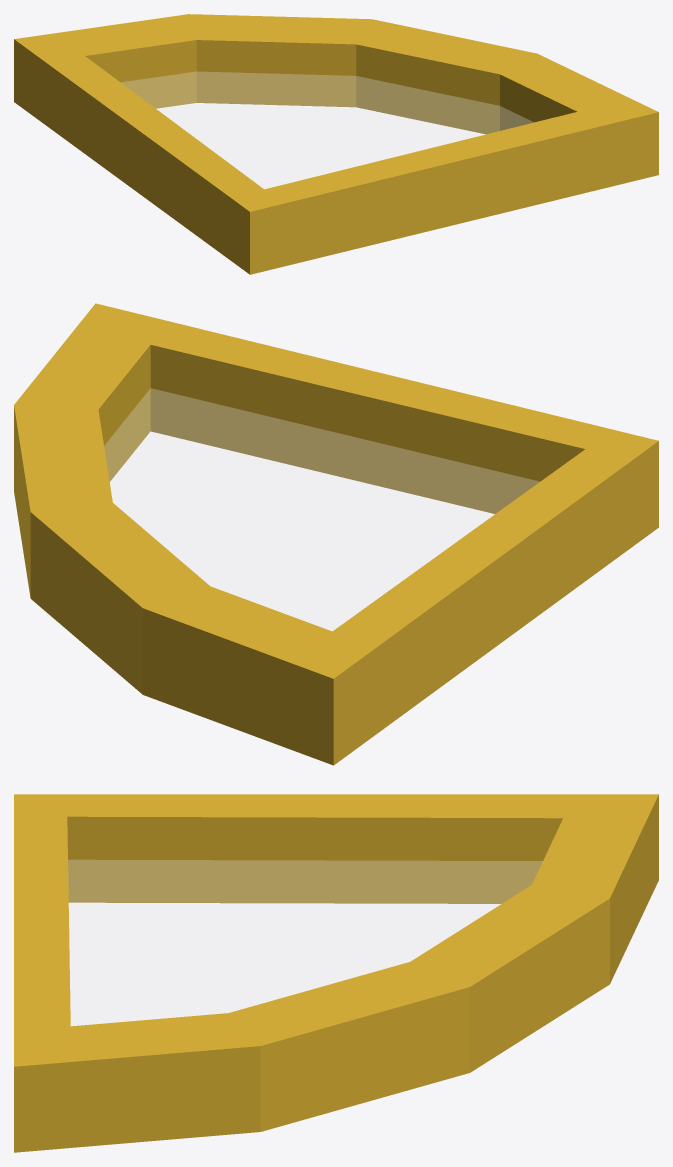
The model's file is mdl_zesty_olock.gltf.
3 views of the same model, one above another, from view 1: azimuth 30°, elevation 25°; view 2: azimuth 150°, elevation 25°; view 3: azimuth 270°, elevation 25° (orthographic). The views are drawn at different scales.
Visible parts, largest first — view 1: mdl_zesty_olock; view 2: mdl_zesty_olock; view 3: mdl_zesty_olock.
Part boxes in pixels (left/top/right/bottom): mdl_zesty_olock: left=14, top=14, right=658, bottom=274; mdl_zesty_olock: left=14, top=303, right=658, bottom=765; mdl_zesty_olock: left=14, top=794, right=658, bottom=1152.
Bounding box in the file's own units: 0.218 × 0.032 × 0.218.
